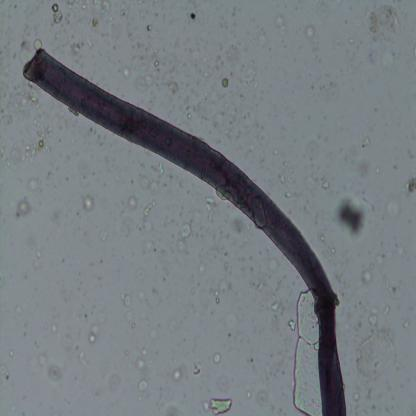Background material: (288, 287, 323, 416), (354, 326, 400, 380), (15, 115, 56, 164), (365, 4, 402, 46), (336, 194, 366, 241), (24, 79, 45, 111), (160, 399, 189, 416), (177, 222, 193, 252), (209, 396, 233, 414), (137, 173, 159, 192), (255, 390, 272, 414), (14, 200, 34, 219), (203, 196, 217, 223), (26, 172, 42, 195), (226, 42, 244, 62), (214, 372, 232, 392), (143, 198, 157, 223), (228, 217, 249, 233), (91, 0, 111, 16), (384, 198, 400, 218), (345, 50, 358, 74), (12, 89, 27, 109), (254, 123, 268, 144), (400, 177, 416, 195), (276, 12, 288, 36), (50, 2, 63, 24), (244, 68, 258, 88), (386, 282, 402, 298), (138, 75, 154, 91), (70, 40, 83, 59), (88, 323, 100, 343), (271, 296, 284, 314), (48, 367, 64, 381), (218, 278, 232, 294), (80, 196, 96, 210), (368, 307, 379, 327), (0, 149, 12, 167), (265, 258, 280, 272), (18, 48, 31, 64), (306, 142, 319, 158), (134, 358, 147, 373), (257, 27, 267, 46), (136, 380, 149, 394), (192, 359, 202, 377), (37, 352, 49, 367), (359, 270, 374, 282), (92, 386, 103, 402), (0, 362, 9, 381), (76, 351, 86, 367), (22, 23, 32, 39), (349, 390, 361, 403), (168, 80, 179, 94), (118, 295, 132, 306), (128, 197, 139, 211), (119, 1, 128, 18), (156, 162, 166, 177), (304, 25, 314, 40), (12, 302, 24, 314), (197, 260, 207, 274), (136, 290, 148, 301), (211, 352, 222, 364), (145, 220, 155, 233), (210, 116, 220, 129), (310, 44, 318, 60), (322, 173, 330, 189), (320, 82, 334, 91), (201, 398, 210, 412), (231, 6, 242, 17), (173, 369, 183, 381), (122, 66, 131, 79), (246, 144, 254, 158), (51, 214, 61, 225), (256, 280, 266, 291), (256, 157, 266, 168), (98, 314, 109, 324), (79, 0, 90, 10), (288, 319, 297, 331), (98, 230, 107, 242), (144, 240, 153, 252), (10, 398, 18, 411), (66, 0, 79, 8), (384, 303, 392, 316), (375, 254, 383, 267), (160, 220, 172, 228), (158, 82, 170, 90), (364, 387, 372, 399), (90, 17, 98, 29), (221, 76, 229, 88), (368, 52, 376, 64), (34, 39, 42, 50), (396, 244, 404, 255), (85, 38, 93, 49), (246, 388, 253, 400), (214, 289, 220, 303), (242, 110, 250, 120), (362, 138, 370, 148), (140, 347, 148, 357), (260, 298, 266, 310), (371, 402, 378, 412), (38, 248, 44, 259), (403, 317, 409, 328), (46, 169, 52, 180), (189, 12, 197, 20), (6, 348, 14, 356), (374, 166, 382, 174), (6, 115, 13, 124), (333, 0, 342, 7), (354, 327, 360, 337), (204, 90, 210, 100), (279, 174, 285, 184), (412, 42, 416, 57), (312, 171, 318, 181), (202, 72, 212, 78), (90, 126, 97, 134), (183, 95, 190, 103), (319, 234, 326, 242), (139, 56, 146, 64), (214, 55, 221, 63), (224, 262, 230, 271), (52, 323, 58, 332), (64, 15, 70, 24), (281, 38, 286, 48), (236, 130, 241, 140), (153, 60, 160, 67), (348, 37, 355, 44), (226, 330, 232, 338), (190, 286, 196, 294), (249, 280, 255, 288), (277, 408, 283, 416), (284, 193, 292, 199), (20, 40, 26, 48), (219, 109, 224, 118), (330, 247, 336, 254), (137, 42, 144, 48), (146, 24, 152, 31), (277, 279, 282, 287), (106, 155, 111, 163), (239, 93, 244, 101), (224, 20, 228, 29), (186, 113, 192, 119), (249, 60, 255, 66), (65, 175, 70, 182), (169, 173, 174, 180), (131, 323, 136, 330), (138, 0, 145, 5), (315, 0, 322, 5), (97, 133, 101, 141), (358, 320, 362, 328), (284, 160, 288, 168), (324, 135, 328, 143), (358, 134, 362, 142), (224, 250, 229, 256), (129, 178, 134, 184), (247, 256, 253, 261), (310, 86, 316, 91), (249, 357, 255, 362), (144, 46, 149, 52), (249, 266, 254, 272), (392, 165, 398, 170), (224, 103, 230, 108), (274, 149, 278, 156), (128, 31, 132, 38), (230, 70, 234, 77), (193, 104, 196, 113), (105, 57, 110, 62), (406, 150, 411, 155), (344, 19, 349, 24), (13, 3, 18, 8), (109, 16, 114, 21), (13, 52, 17, 58), (154, 247, 158, 253), (82, 174, 86, 180), (163, 181, 167, 187), (292, 280, 296, 286), (344, 156, 348, 162), (282, 370, 286, 376), (266, 47, 272, 51), (178, 104, 182, 109), (138, 226, 142, 231), (328, 256, 332, 261), (186, 105, 190, 110), (215, 65, 219, 70), (289, 167, 293, 172), (234, 107, 238, 112), (0, 49, 3, 55), (155, 11, 158, 17), (260, 249, 262, 257), (182, 90, 186, 94), (229, 120, 233, 124), (217, 140, 221, 144), (220, 62, 224, 66), (311, 163, 314, 168), (359, 300, 362, 305), (154, 48, 157, 53), (126, 348, 128, 355), (157, 68, 160, 72), (113, 46, 116, 50), (310, 157, 313, 161), (198, 69, 202, 72), (132, 45, 134, 49)
Microfibre: (22, 46, 349, 416)
